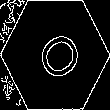O_SW: (26, 24, 84, 86)
